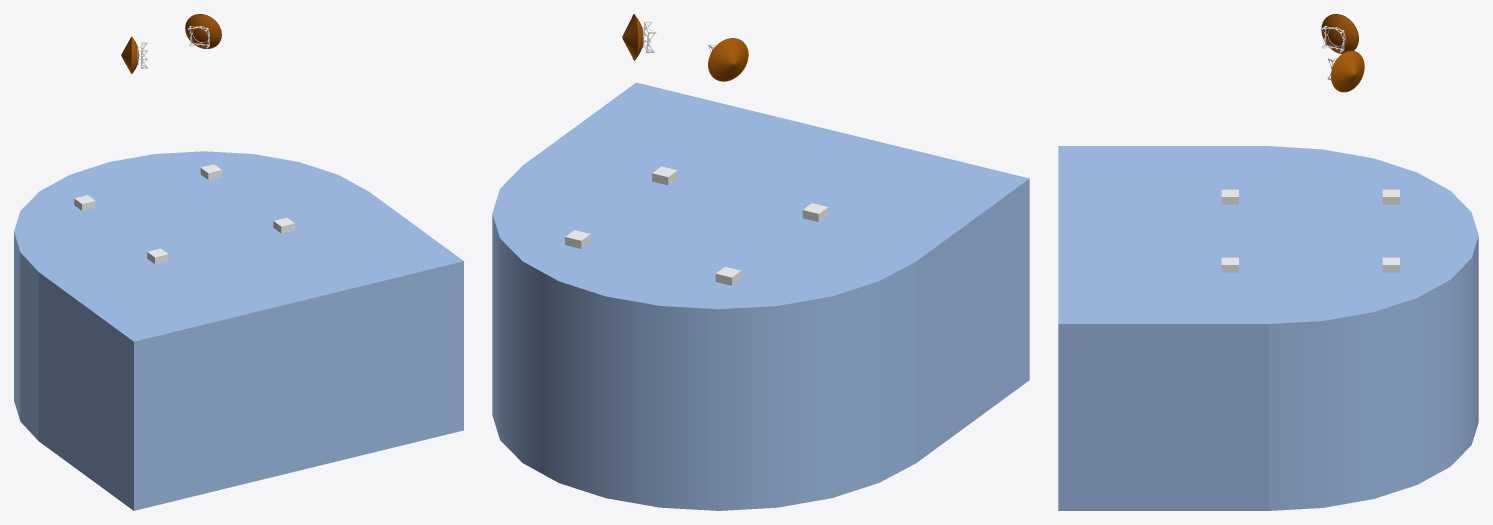
Rendered from 羽地ダム.glb.
3 views of the same model, side by side, from view 1: azimuth 30°, elevation 25°; view 2: azimuth 150°, elevation 25°; view 3: azimuth 270°, elevation 25° (orthographic). The views are drawn at different scales.
Visible parts, largest first — view 1: group_14, group_17; view 2: group_14, group_17.004, group_17; view 3: group_14, group_17, group_17.004.
Boxes of the visible parts, box(x1,y1,x2,y2) form: group_14: box(14, 151, 463, 510); group_17: box(185, 14, 221, 48); group_14: box(492, 82, 1029, 510); group_17.004: box(708, 38, 747, 80); group_17: box(622, 14, 643, 59); group_14: box(1058, 146, 1478, 510); group_17: box(1331, 51, 1363, 91); group_17.004: box(1322, 14, 1358, 53).
Size of the model in its own units: 20 by 20.4 by 19.97.
